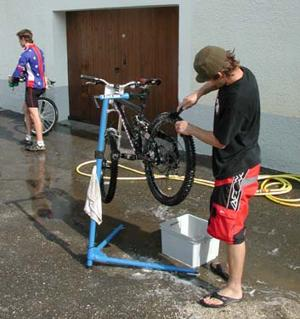person: (174, 45, 263, 308)
